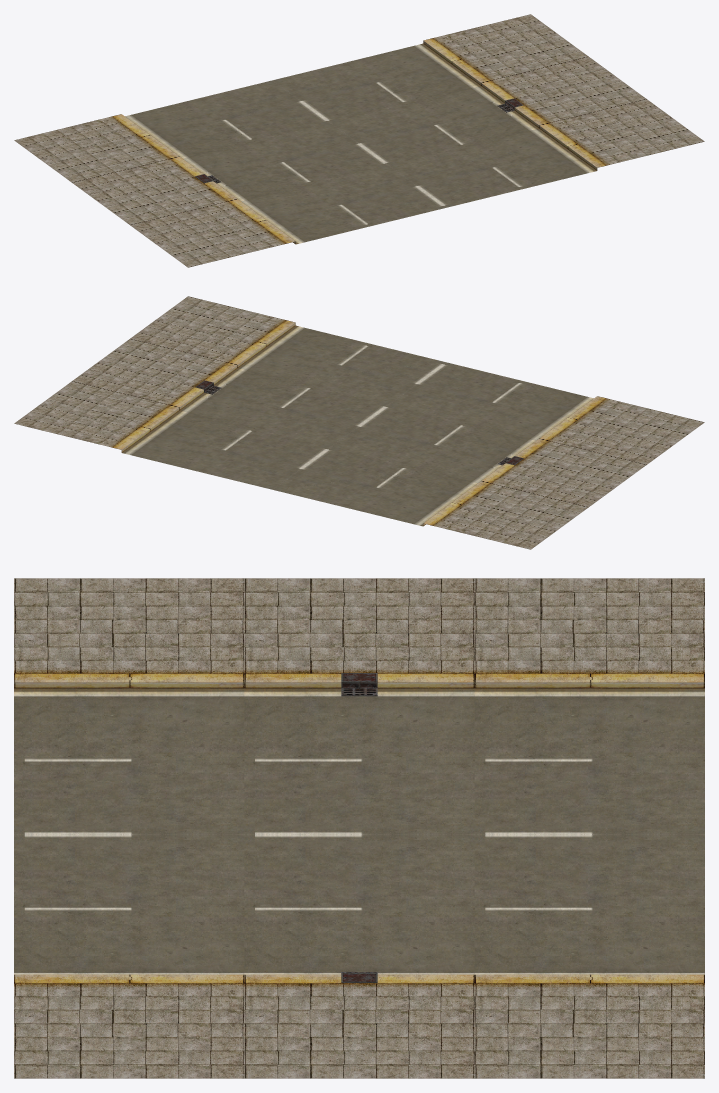
File: Road2_Part_07_D.fbx
The picture shows the model from 3 angles, top to bottom: view 1: azimuth 30°, elevation 25°; view 2: azimuth 150°, elevation 25°; view 3: azimuth 270°, elevation 25°; orthographic projection. The views are drawn at different scales.
Parts seen in each view (by area): view 1: Model_Road2_Part_07_D; view 2: Model_Road2_Part_07_D; view 3: Model_Road2_Part_07_D.
Boxes of the visible parts, x1,y1,x2,y2 form: Model_Road2_Part_07_D: (14, 14, 704, 267); Model_Road2_Part_07_D: (14, 296, 704, 549); Model_Road2_Part_07_D: (14, 578, 704, 1078).
Bounding box in the file's own units: 2400 × 31.47 × 1400.
